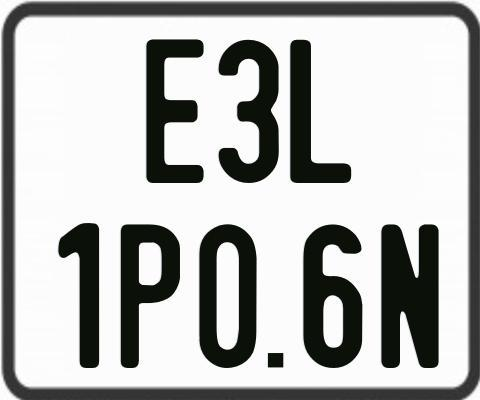0: (196, 224, 255, 370)
1: (56, 222, 99, 372)
3: (217, 38, 282, 187)
6: (302, 223, 361, 368)
E: (144, 38, 208, 186)
L: (288, 39, 353, 187)
N: (380, 224, 443, 368)
P: (120, 222, 180, 368)
